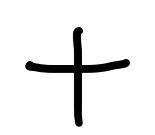plus: (26, 28, 131, 126)
